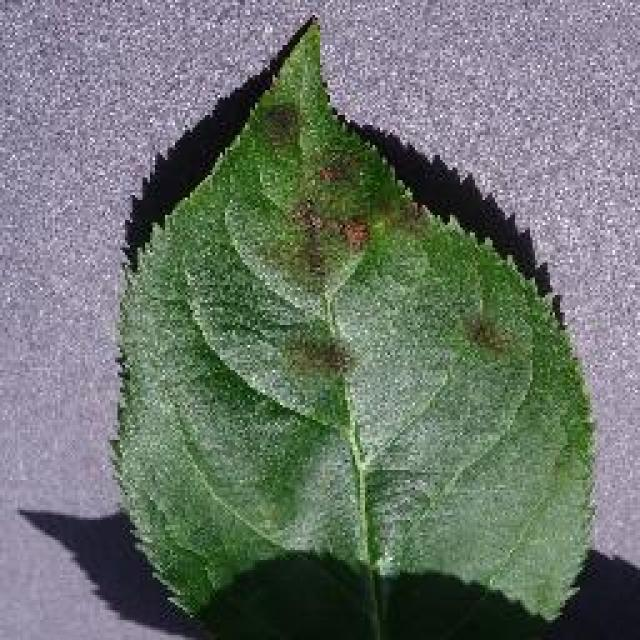apple scab disease: (105, 12, 600, 638)
